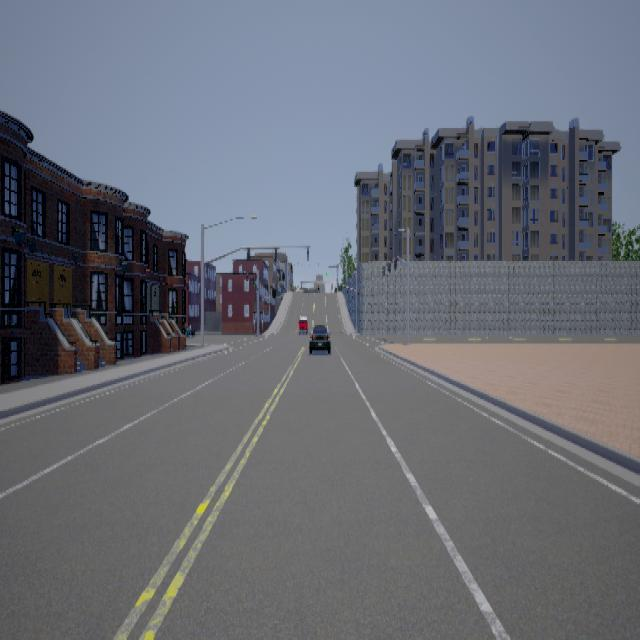vehicle: (308, 323, 330, 352), (295, 313, 308, 332)
